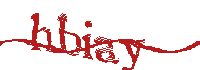a: (94, 35, 119, 64)
b: (57, 12, 81, 58)
h: (30, 11, 54, 53)
i: (83, 19, 96, 61)
y: (120, 37, 145, 70)
